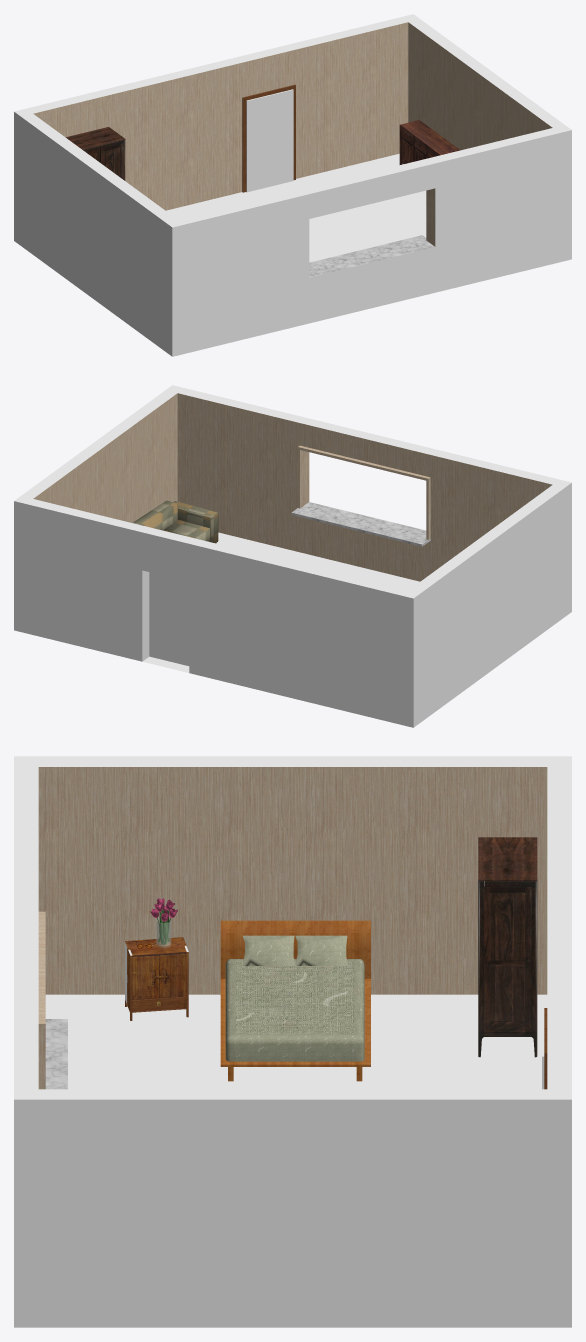
File: room.obj
The picture shows the model from 3 angles, top to bottom: view 1: azimuth 30°, elevation 25°; view 2: azimuth 150°, elevation 25°; view 3: azimuth 270°, elevation 25°; orthographic projection. The views are drawn at different scales.
Visible parts, largest first — view 1: Mesh226 Model, Mesh225 Group129 Component_66_1 Model, Mesh220 Group127 Component_64_1 Model, Mesh215 Group128 Group127 Component_64_1 Model; view 2: Mesh226 Model, Mesh25 Group2 Component_15_2 F_Sofa_Modern1 Component_2_1 Model, Mesh27 Group_27_4 Component_15_2 F_Sofa_Modern1 Component_2_1 Mo, Mesh26 Group_27_3 Component_15_2 F_Sofa_Modern1 Component_2_1 Mo; view 3: Mesh226 Model, Mesh16 MattressInside1 Mattress1 Bed1 Model, Mesh220 Group127 Component_64_1 Model, Mesh3 BedFrameHeadboard1 Bed1 Model, Mesh13 MattressBottom2 Mattress1 Bed1 Model, Mesh215 Group128 Group127 Component_64_1 Model, Mesh208 Group120 Cabinet_Hayford_Dongbei_Style1 Cabinet_Hayford_, Mesh6 BedFrameBase1 Bed1 Model, Mesh18 Pillow_copy_001 Bed1 Model, Mesh17 Pillow1 Bed1 Model, Mesh219 Group_88_4 Group127 Component_64_1 Model, Mesh217 Group_88_2 Group127 Component_64_1 Model (+3 smaller).
Part boxes in pixels (left/top/right/bottom): Mesh226 Model: left=14, top=14, right=571, bottom=356; Mesh225 Group129 Component_66_1 Model: left=399, top=120, right=460, bottom=163; Mesh220 Group127 Component_64_1 Model: left=83, top=140, right=122, bottom=178; Mesh215 Group128 Group127 Component_64_1 Model: left=66, top=127, right=125, bottom=149; Mesh226 Model: left=14, top=385, right=571, bottom=727; Mesh25 Group2 Component_15_2 F_Sofa_Modern1 Component_2_1 Model: left=173, top=501, right=218, bottom=543; Mesh27 Group_27_4 Component_15_2 F_Sofa_Modern1 Component_2_1 Mo: left=143, top=500, right=177, bottom=530; Mesh26 Group_27_3 Component_15_2 F_Sofa_Modern1 Component_2_1 Mo: left=163, top=520, right=210, bottom=541; Mesh226 Model: left=14, top=756, right=571, bottom=1327; Mesh16 MattressInside1 Mattress1 Bed1 Model: left=236, top=961, right=354, bottom=1033; Mesh220 Group127 Component_64_1 Model: left=484, top=881, right=531, bottom=1036; Mesh3 BedFrameHeadboard1 Bed1 Model: left=220, top=920, right=370, bottom=978; Mesh13 MattressBottom2 Mattress1 Bed1 Model: left=236, top=1034, right=354, bottom=1061; Mesh215 Group128 Group127 Component_64_1 Model: left=478, top=837, right=537, bottom=880; Mesh208 Group120 Cabinet_Hayford_Dongbei_Style1 Cabinet_Hayford_: left=132, top=953, right=186, bottom=999; Mesh6 BedFrameBase1 Bed1 Model: left=220, top=979, right=370, bottom=1066; Mesh18 Pillow_copy_001 Bed1 Model: left=295, top=935, right=347, bottom=965; Mesh17 Pillow1 Bed1 Model: left=242, top=935, right=294, bottom=965; Mesh219 Group_88_4 Group127 Component_64_1 Model: left=531, top=881, right=537, bottom=1057; Mesh217 Group_88_2 Group127 Component_64_1 Model: left=478, top=881, right=484, bottom=1057.
Bounding box in the file's own units: 8.46 × 2.5 × 5.51.
Materials: 24 (13 with a texture image).
